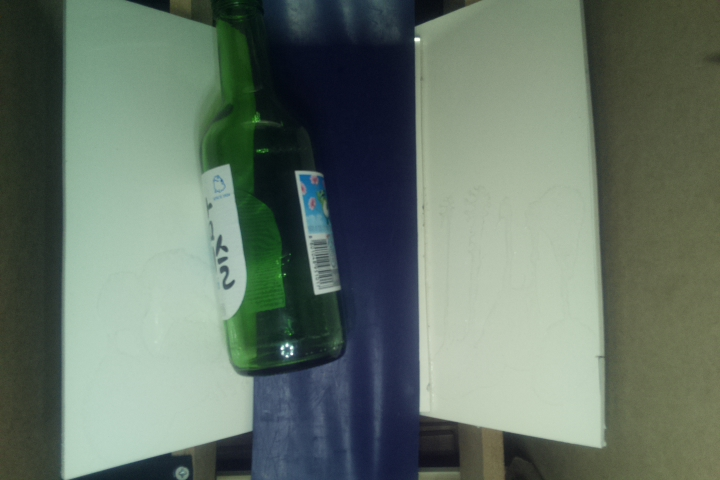soju: (194, 1, 352, 375)
